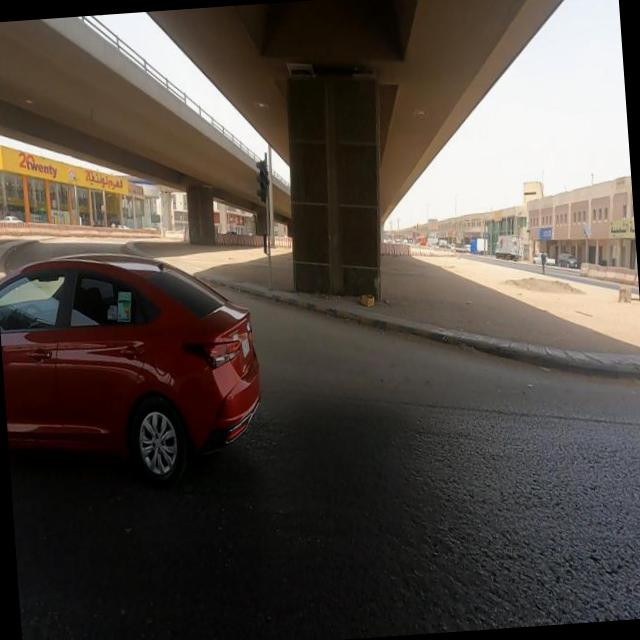debris: (338, 268, 401, 336)
